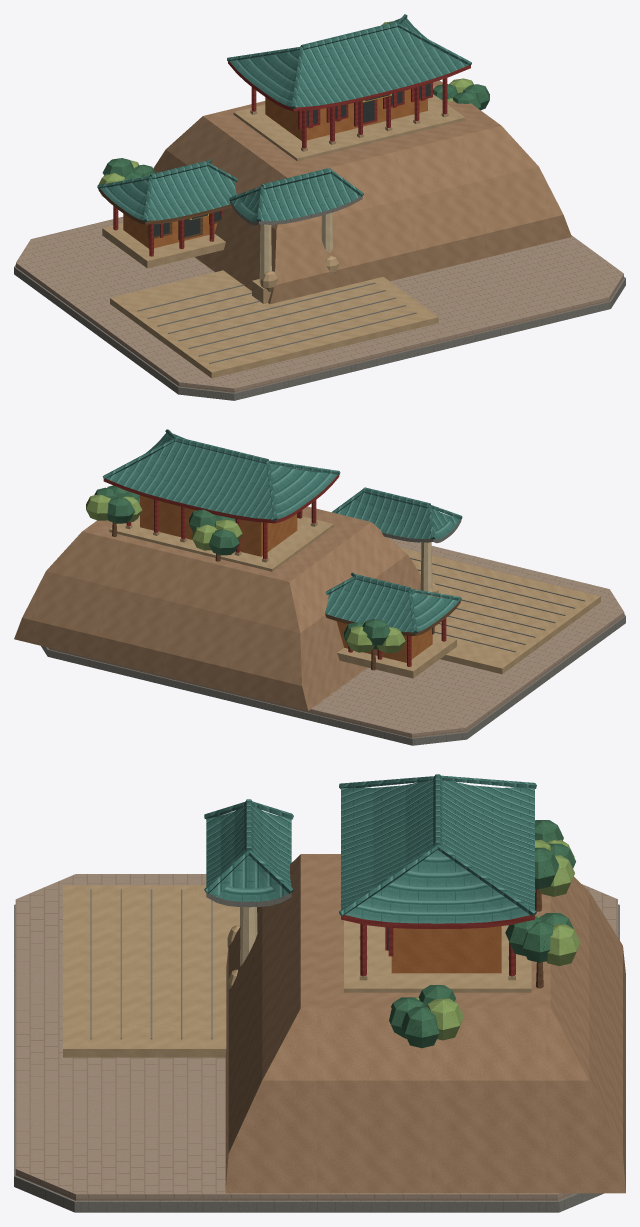
The picture shows the model from 3 angles, top to bottom: view 1: azimuth 30°, elevation 25°; view 2: azimuth 150°, elevation 25°; view 3: azimuth 270°, elevation 25°; orthographic projection. The views are drawn at different scales.
Visible parts, largest first — view 1: 妈阁庙; view 2: 妈阁庙; view 3: 妈阁庙.
Boxes of the visible parts, bbox=[...] form: 妈阁庙: bbox=[14, 14, 625, 400]; 妈阁庙: bbox=[14, 429, 625, 745]; 妈阁庙: bbox=[14, 774, 625, 1212].
Bounding box in the file's own units: 10.1 × 4.28 × 8.1.
13 materials, 13 textured.
